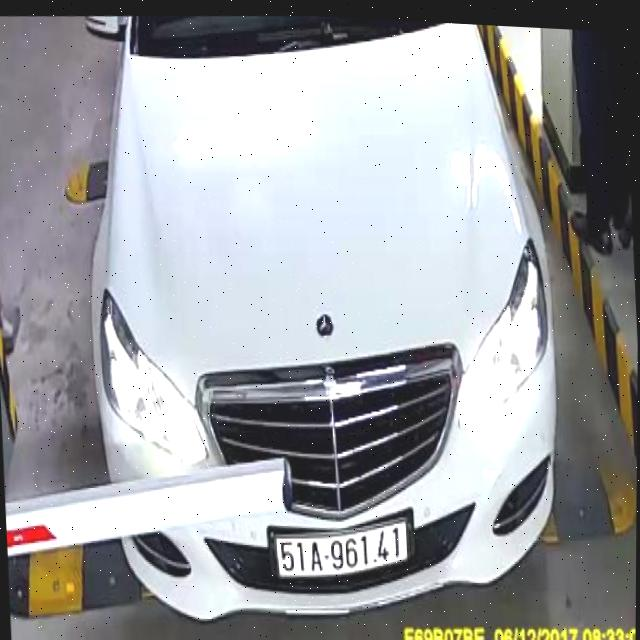car: (77, 4, 578, 640)
plate: (264, 516, 416, 591)
